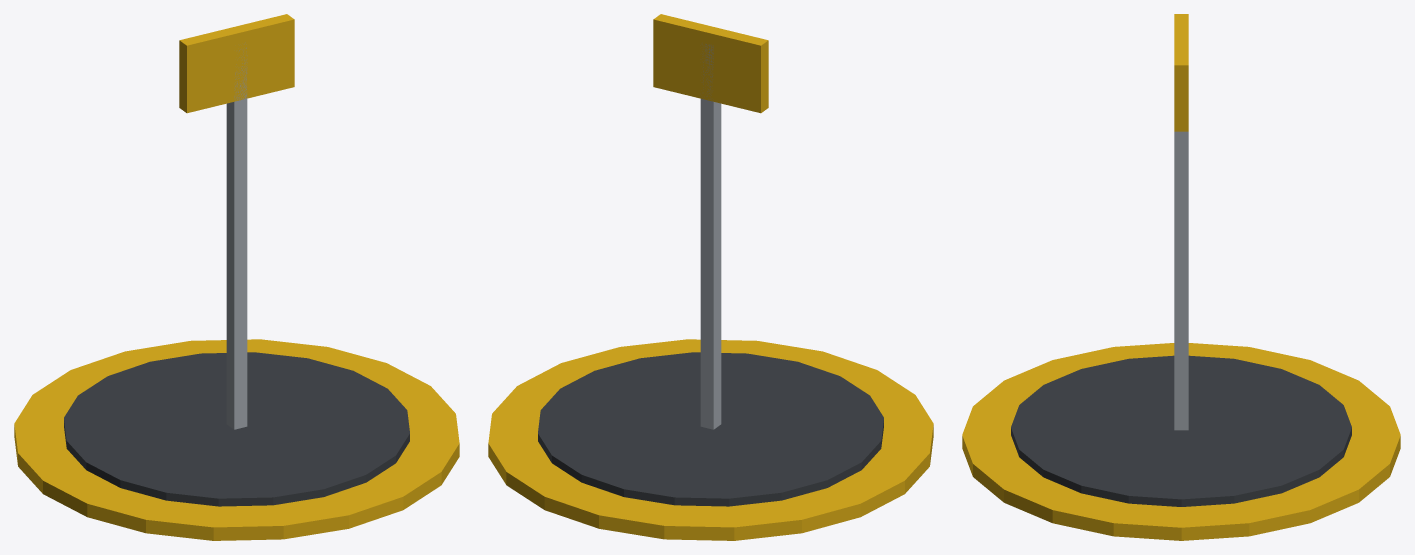
The model's file is PRP_Marker.fbx.
3 renders of one model, left to right at view 1: azimuth 30°, elevation 25°; view 2: azimuth 150°, elevation 25°; view 3: azimuth 270°, elevation 25°, orthographic. The views are drawn at different scales.
Parts seen in each view (by area): view 1: PRP_Marker__BODY; view 2: PRP_Marker__BODY; view 3: PRP_Marker__BODY.
Boxes of the visible parts, x1=… form: PRP_Marker__BODY: x1=14, y1=14, x2=459, y2=540; PRP_Marker__BODY: x1=488, y1=14, x2=933, y2=540; PRP_Marker__BODY: x1=962, y1=14, x2=1400, y2=540.
Size of the model in its own units: 1.8 by 1.85 by 1.8.
